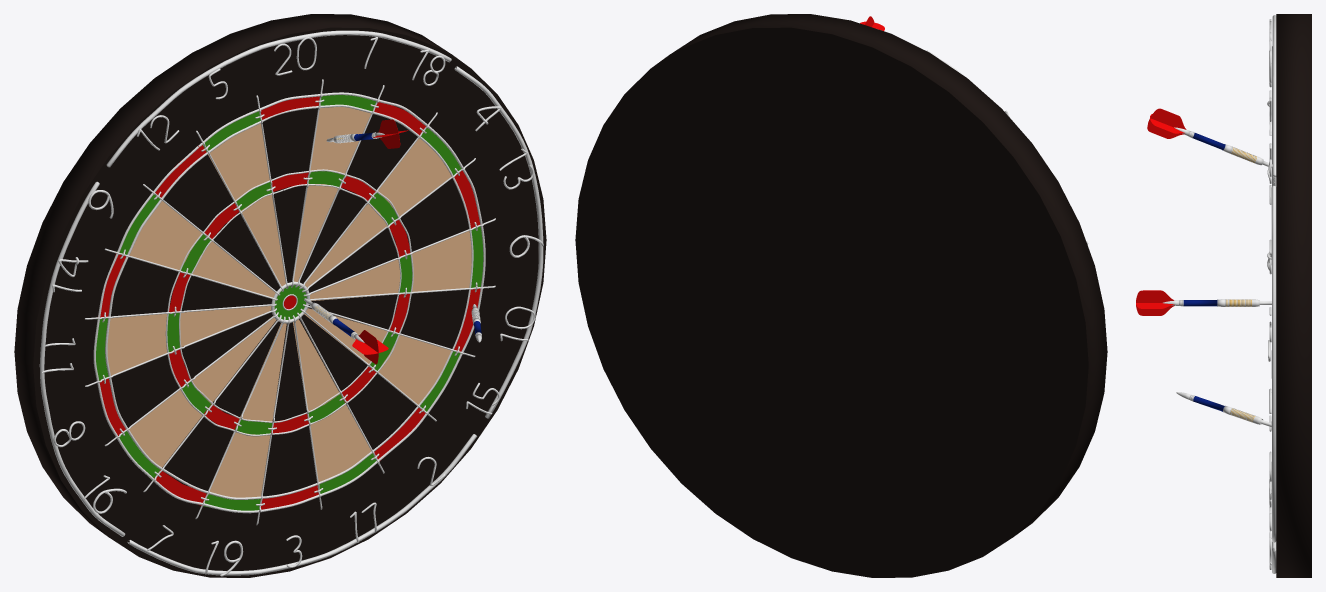
Rendered from Dart Board with Darts.fbx.
3 views of the same model, side by side, from view 1: azimuth 30°, elevation 25°; view 2: azimuth 150°, elevation 25°; view 3: azimuth 270°, elevation 25° (orthographic). The views are drawn at different scales.
Parts seen in each view (by area): view 1: Dart Board, Dart Board - radial rings, Dart Board - radial spikes, Dart Board - edge ring, Dart Board - fasteners; view 2: Dart Board; view 3: Dart Board, Dart Board - edge ring, Dart wing horiz.002, Dart wing horiz, Dart main body, Dart main body.002, Dart main body.001.
Part boxes in pixels (box(x1,y1,x2,y2)): Dart Board: box(14, 14, 546, 577); Dart Board - radial rings: box(93, 92, 485, 513); Dart Board - radial spikes: box(85, 79, 495, 525); Dart Board - edge ring: box(39, 30, 543, 575); Dart Board - fasteners: box(102, 99, 477, 505); Dart Board: box(575, 14, 1107, 577); Dart Board: box(1276, 14, 1311, 577); Dart Board - edge ring: box(1271, 15, 1276, 573); Dart wing horiz.002: box(1147, 108, 1186, 138); Dart wing horiz: box(1136, 290, 1174, 315); Dart main body: box(1163, 299, 1271, 306); Dart main body.002: box(1174, 127, 1272, 168); Dart main body.001: box(1176, 392, 1271, 426).
Size of the model in its own units: 134 by 134 by 41.76.
